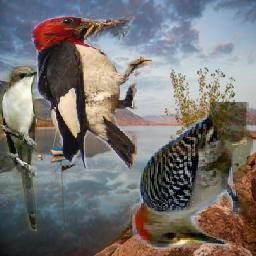Cuckoo: (1, 67, 38, 232)
Woodpecker: (109, 103, 254, 256), (32, 16, 153, 171)
